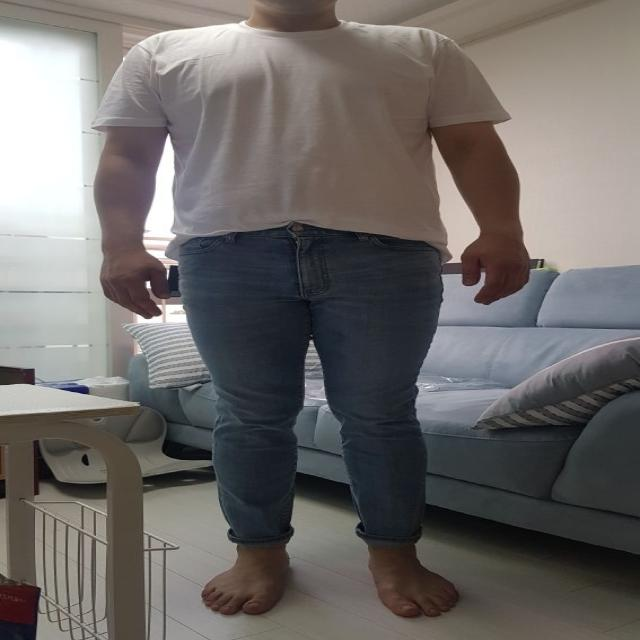denimpants: (179, 220, 443, 543)
shortsleeve: (95, 20, 506, 246)
